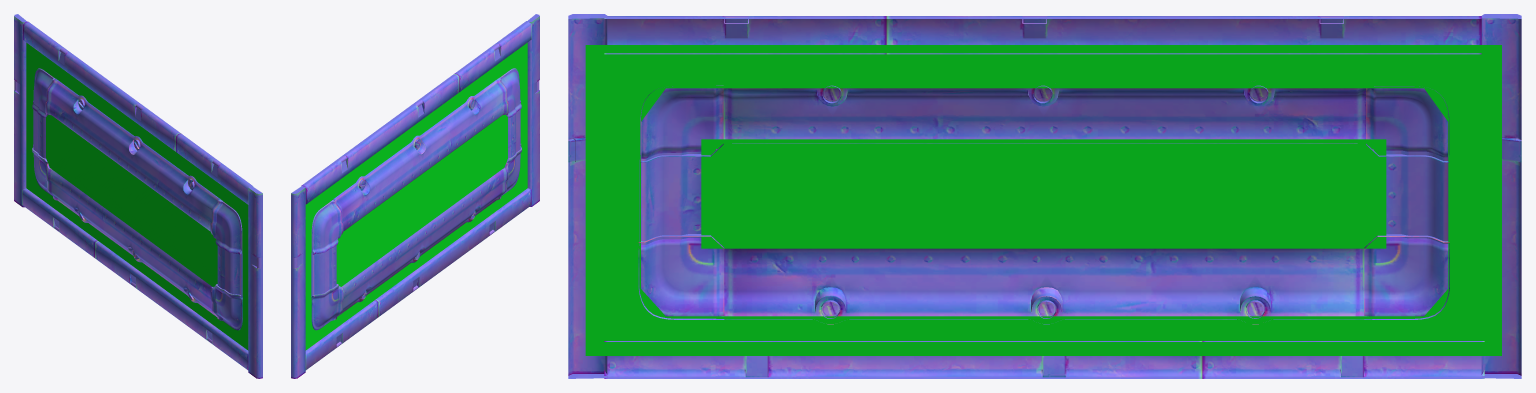
File: Wall_Interior_1200x500_B.fbx
The picture shows the model from 3 angles, left to right: view 1: azimuth 30°, elevation 25°; view 2: azimuth 150°, elevation 25°; view 3: azimuth 270°, elevation 25°; orthographic projection. The views are drawn at different scales.
Visible parts, largest first — view 1: Geom_Wall_Interior_1200x500_B_LOD00; view 2: Geom_Wall_Interior_1200x500_B_LOD00; view 3: Geom_Wall_Interior_1200x500_B_LOD00.
Boxes of the visible parts, x1,y1,x2,y2 form: Geom_Wall_Interior_1200x500_B_LOD00: (14, 14, 262, 378); Geom_Wall_Interior_1200x500_B_LOD00: (291, 14, 539, 378); Geom_Wall_Interior_1200x500_B_LOD00: (568, 14, 1521, 378).
Size of what is drawn, in the model's own units: 33.11 by 500 by 1200.
